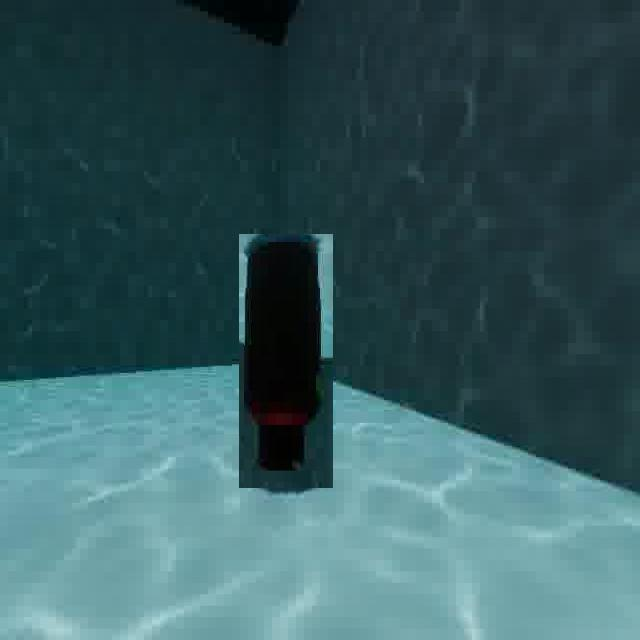Cylinder: (239, 233, 334, 488)
